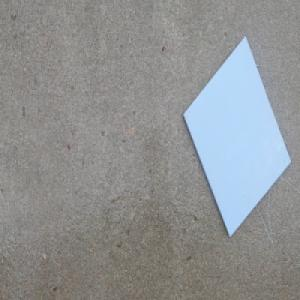PaintChip: (183, 33, 293, 237)
